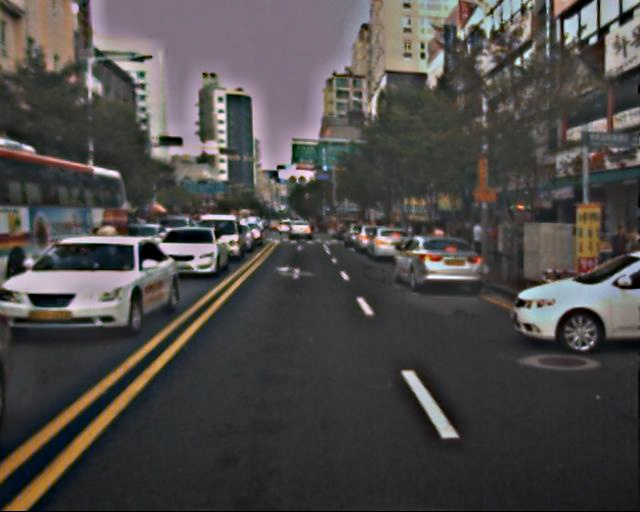person: (603, 224, 634, 300), (465, 216, 489, 274)
